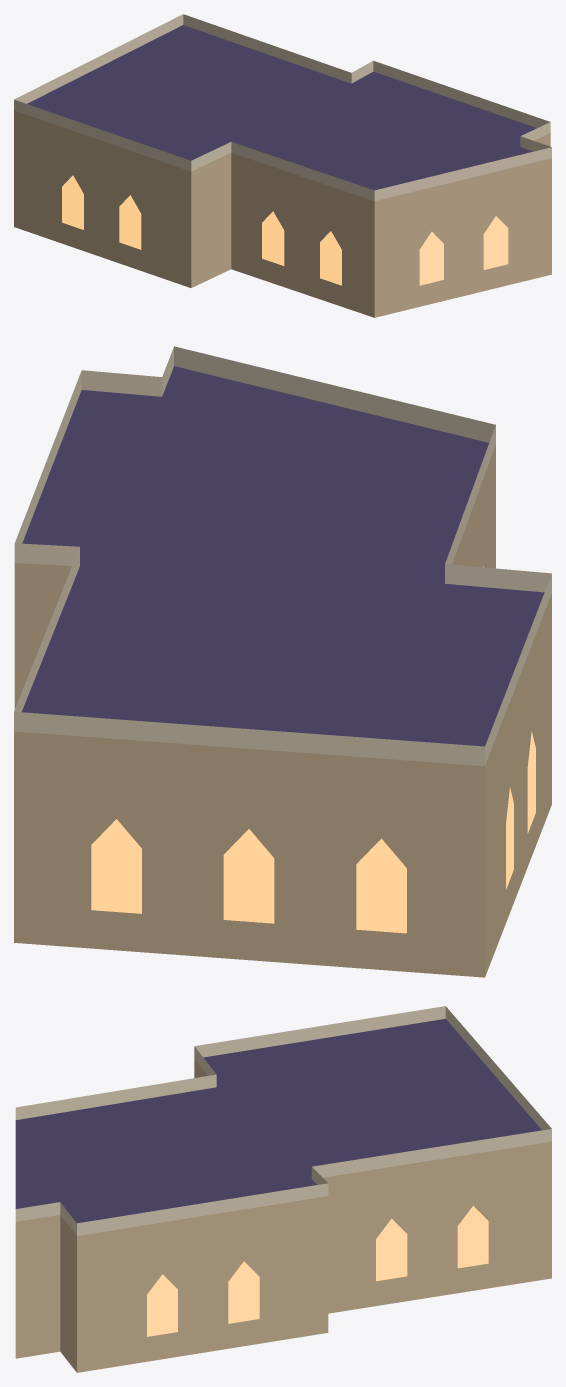
The picture shows the model from 3 angles, top to bottom: view 1: azimuth 30°, elevation 25°; view 2: azimuth 150°, elevation 25°; view 3: azimuth 270°, elevation 25°; orthographic projection. The views are drawn at different scales.
Visible parts, largest first — view 1: campus/b-132-0; view 2: campus/b-132-0; view 3: campus/b-132-0.
Part boxes in pixels (x1,y1,x2,y2): campus/b-132-0: (14,14,551,317); campus/b-132-0: (14,346,551,977); campus/b-132-0: (15,1006,551,1372).
Size of the model in its own units: 20.09 by 6.45 by 21.02.
